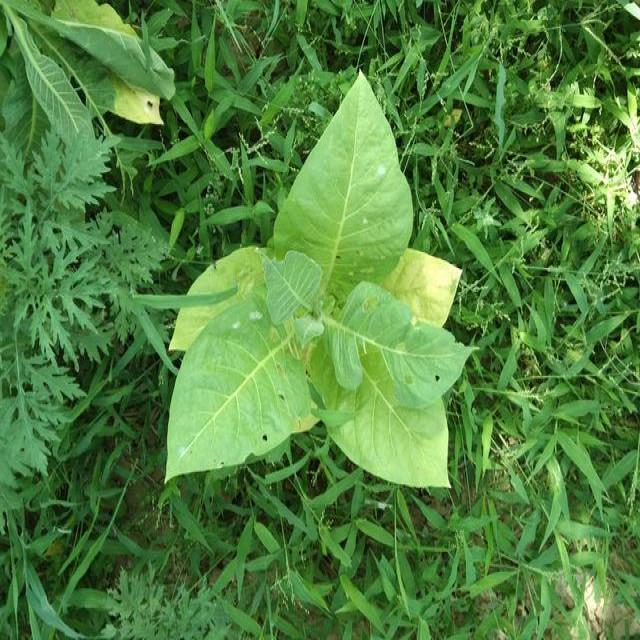crop: (162, 85, 450, 500)
